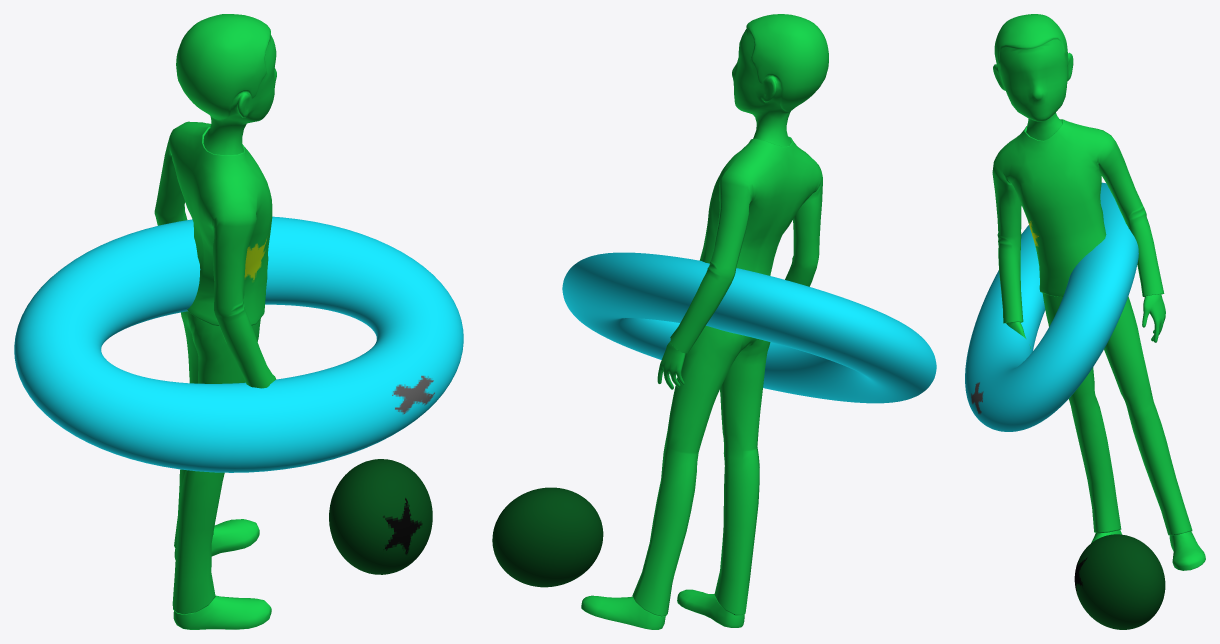
The model's file is man-ball.glb.
3 renders of one model, left to right at view 1: azimuth 30°, elevation 25°; view 2: azimuth 150°, elevation 25°; view 3: azimuth 270°, elevation 25°, orthographic. The views are drawn at different scales.
Parts seen in each view (by area): view 1: mesh_id35, mesh_id27, mesh_id37; view 2: mesh_id27, mesh_id35, mesh_id37; view 3: mesh_id27, mesh_id35, mesh_id37.
Part boxes in pixels (x1,y1,x2,y2): mesh_id35: [14, 216, 463, 472]; mesh_id27: [154, 14, 276, 629]; mesh_id37: [329, 459, 432, 574]; mesh_id27: [581, 14, 828, 629]; mesh_id35: [562, 252, 936, 403]; mesh_id37: [492, 487, 603, 587]; mesh_id27: [992, 14, 1205, 570]; mesh_id35: [965, 182, 1138, 431]; mesh_id37: [1074, 534, 1165, 629].
Bounding box in the file's own units: 0.2325 × 0.3238 × 0.1345.
3 materials, 3 textured.
